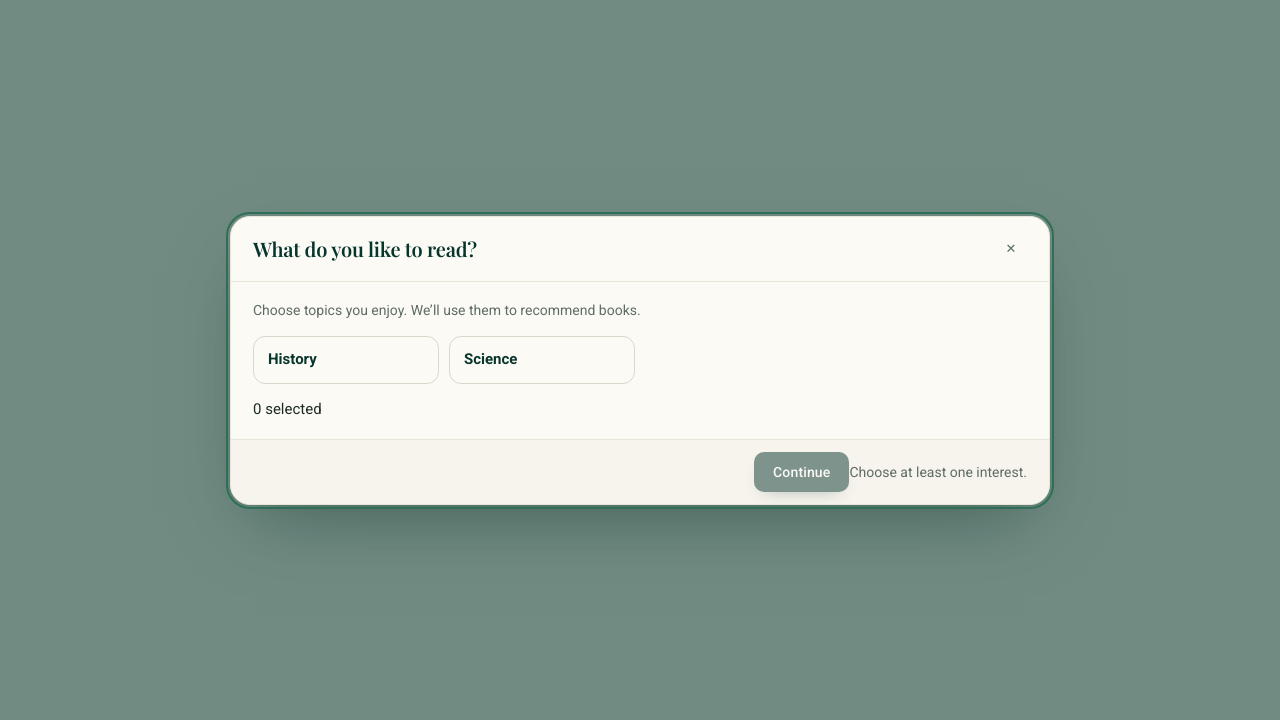
Test case: InterestsPicker › keeps Continue disabled until one interest is selected
Expected: the button "Continue" is disabled, 754,452 -> 849,492
Click the button "History": (346, 359) 253,335 -> 439,383
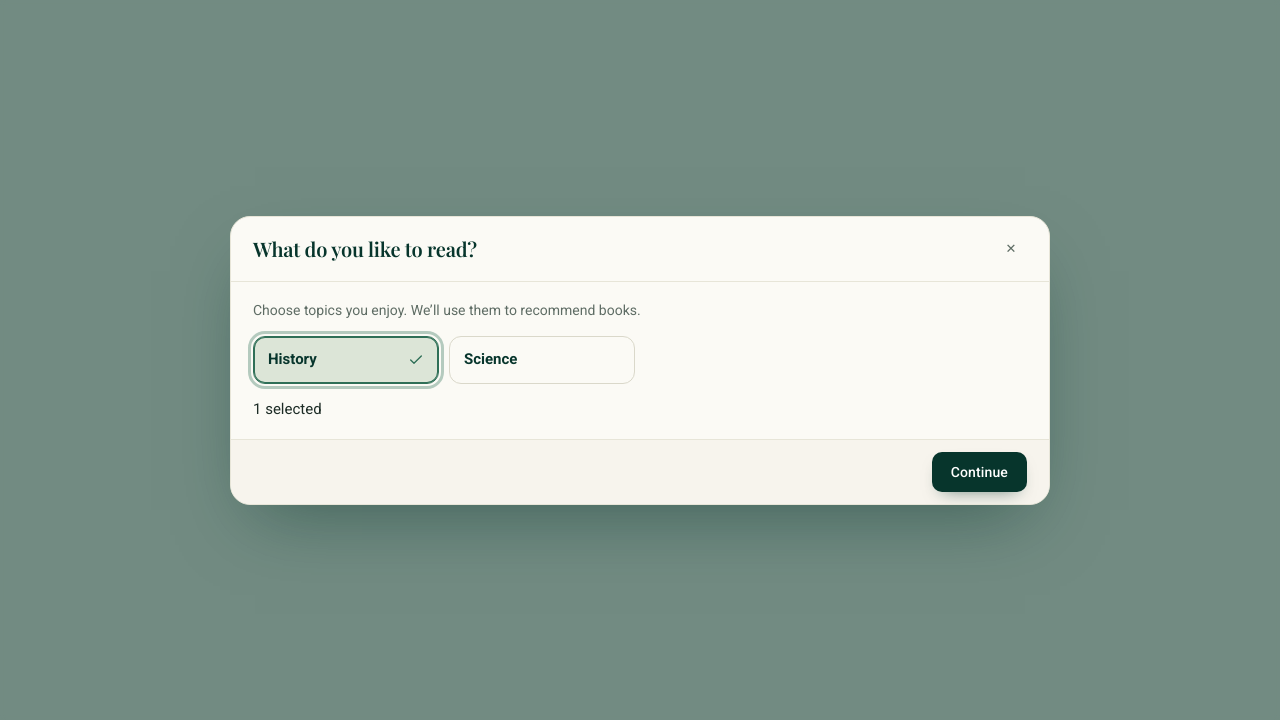
Now the text "1 selected" is shown, box 253,399 -> 322,417
Now the button "Continue" is enabled, box 932,452 -> 1027,492
